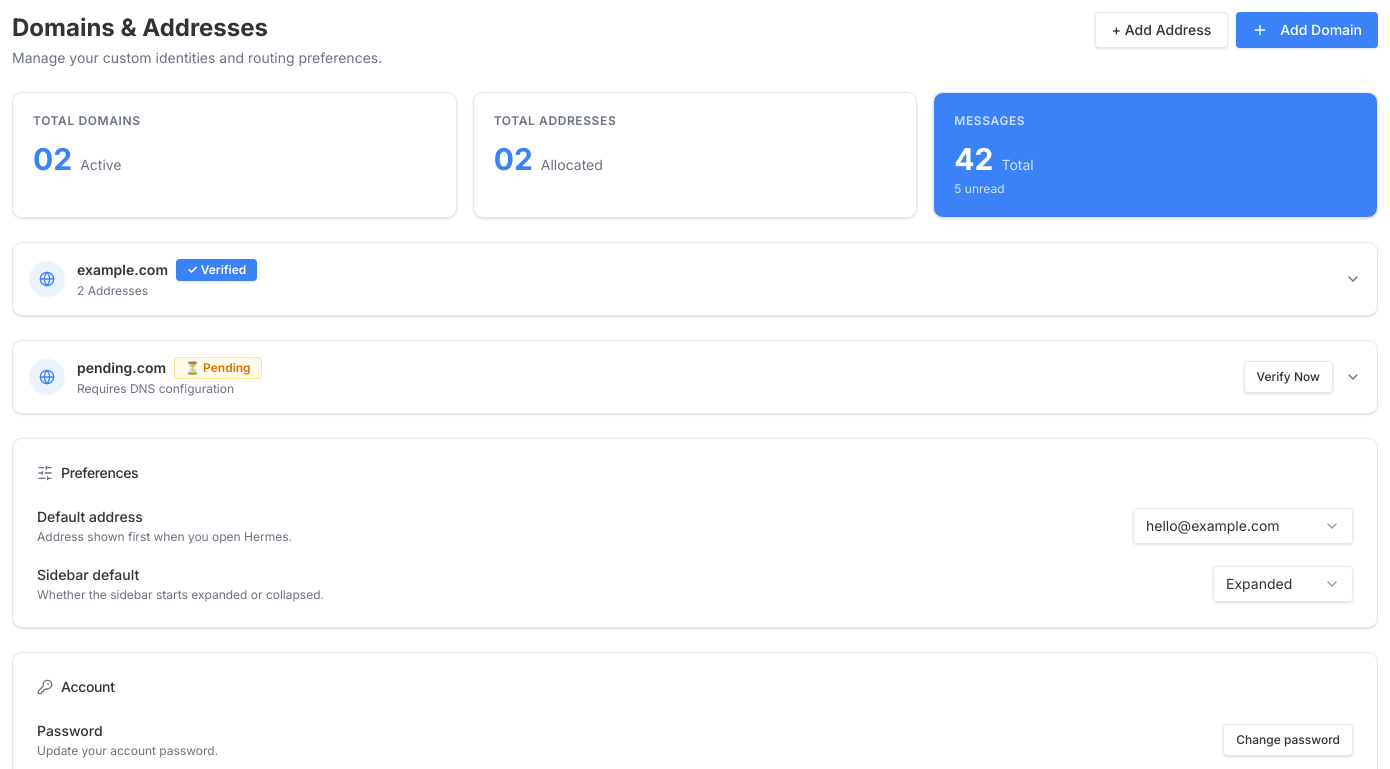
Test case: SettingsView › domain accordions › expands domain row to show addresses on click
Click the button with test id "domain-row-example.com": [47, 279] box [13,243,1377,315]
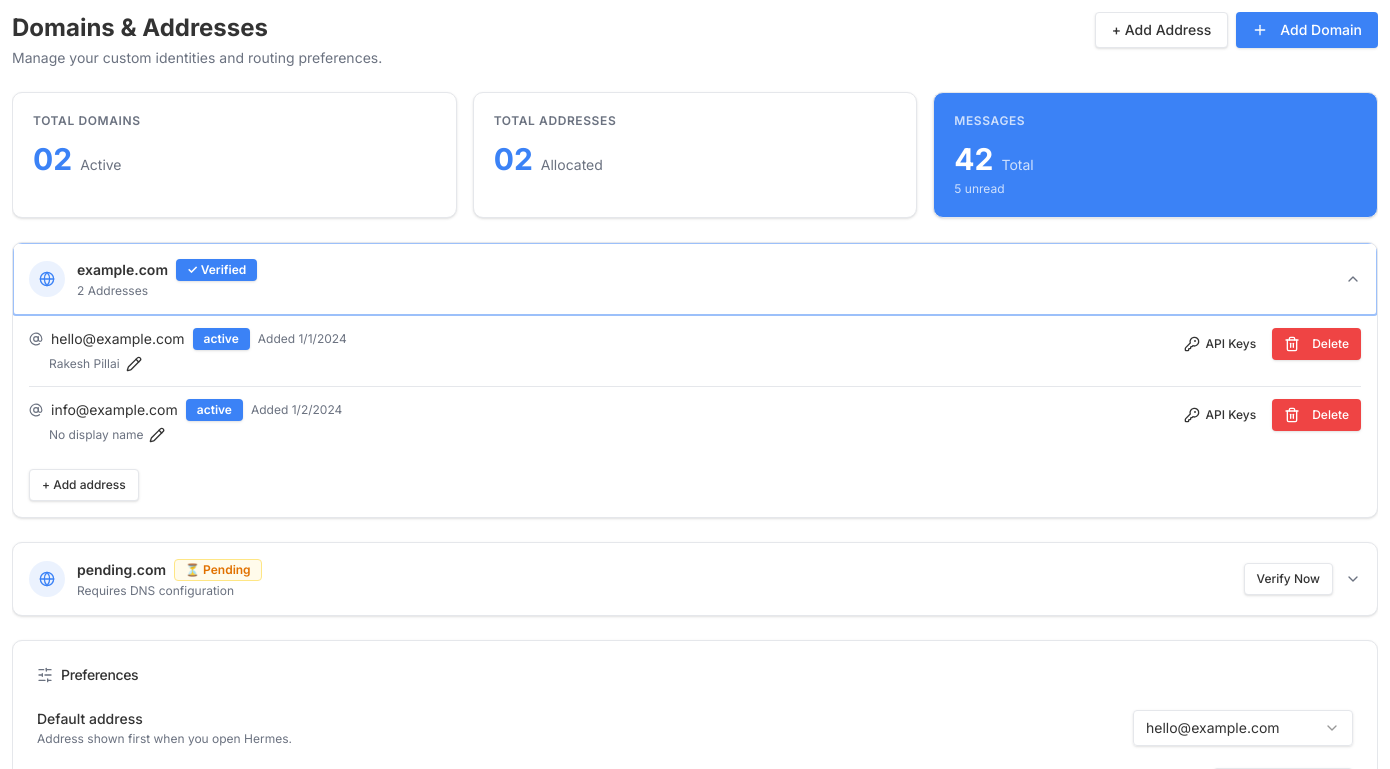
Expected: the list with test id "address-list-example.com" is shown, [29,316,1361,457]
Expected: the text "hello@example.com" in the row of "1/1/2024" is shown, [51,330,185,347]
Expected: the text "info@example.com" is shown, [51,400,178,420]
